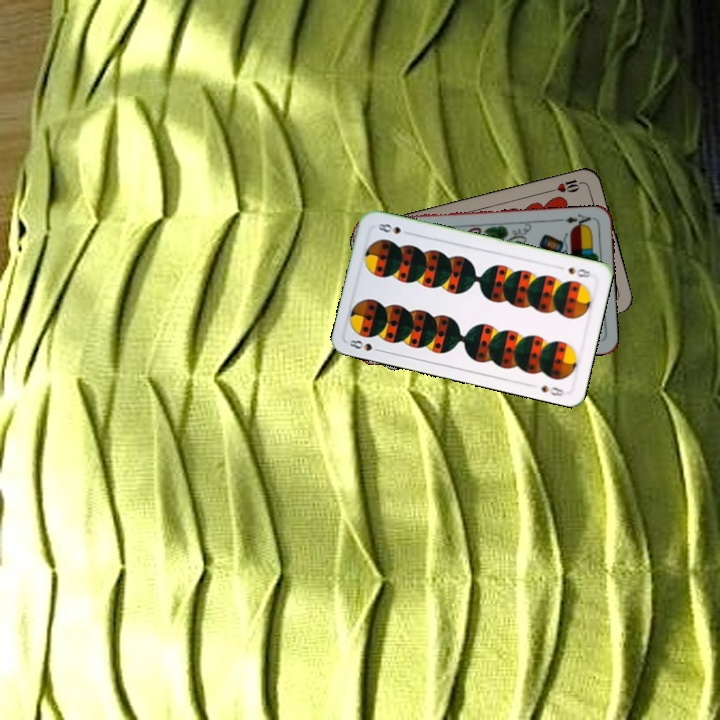EA: (556, 210, 596, 230)
H10: (546, 175, 586, 195)
S8: (345, 336, 385, 355), (564, 263, 593, 281)
